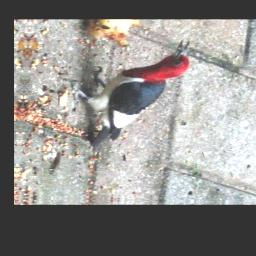Woodpecker: (58, 33, 199, 157)
